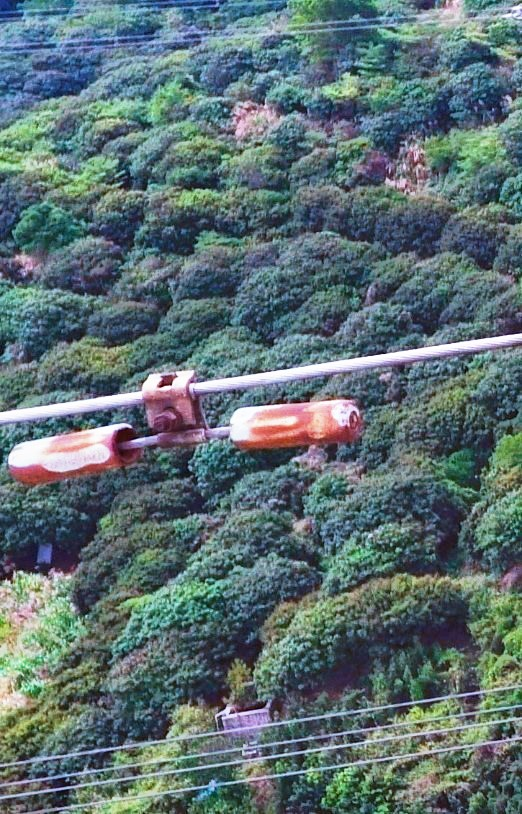Shockproof hammer: (4, 356, 367, 487)
